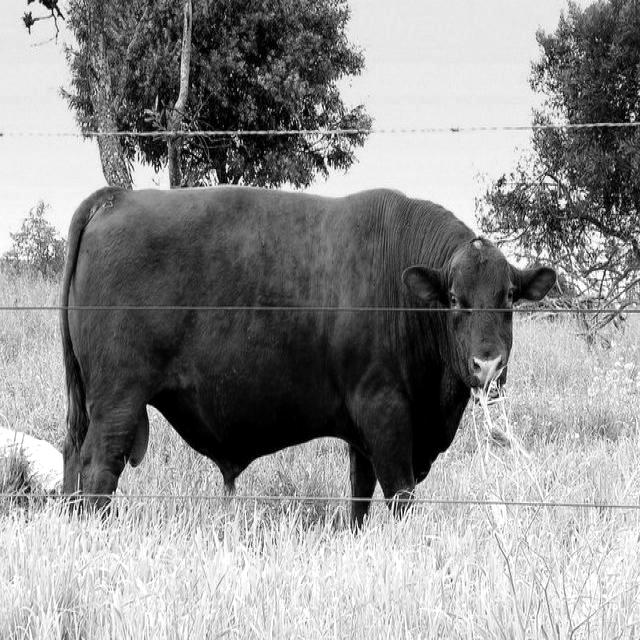COW: (60, 187, 555, 507)
